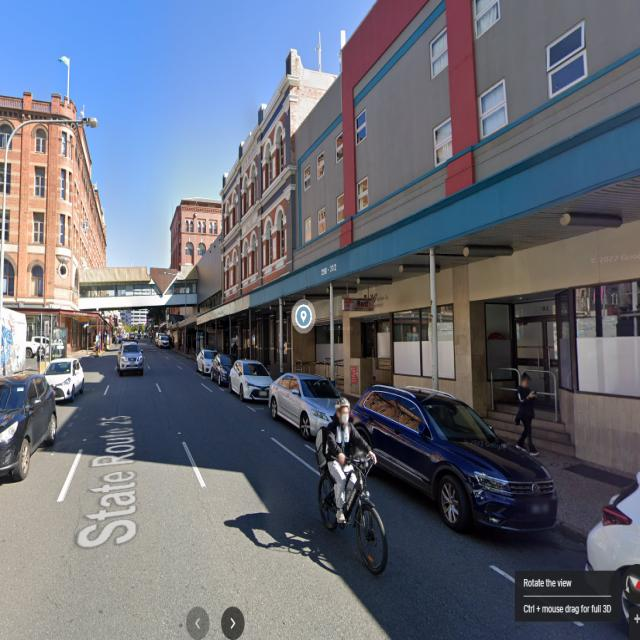light pole: (0, 116, 99, 308), (164, 270, 188, 354)
steel-pole: (1, 145, 7, 309), (185, 280, 188, 354)
streetlight: (3, 114, 98, 154), (164, 271, 185, 280)
